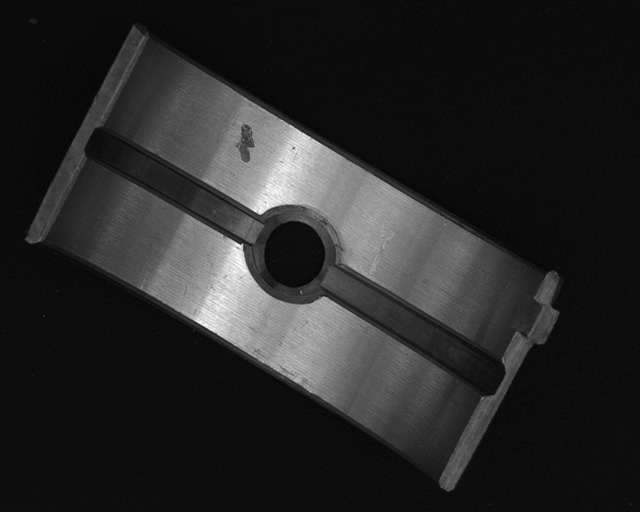bruise: (232, 122, 256, 164)
gap: (326, 264, 502, 397), (86, 126, 263, 242)
hole: (257, 206, 334, 297)
nick: (368, 223, 394, 277)
